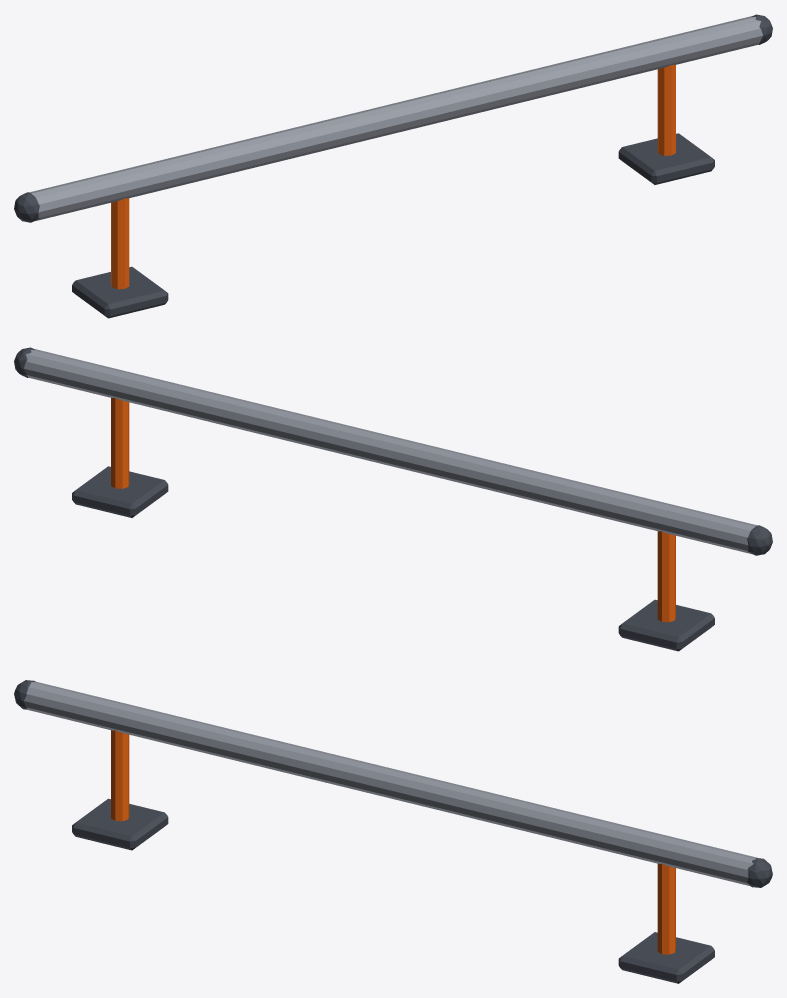
File: rail_flat.glb
3 renders of one model, top to bottom at view 1: azimuth 30°, elevation 25°; view 2: azimuth 150°, elevation 25°; view 3: azimuth 330°, elevation 25°, orthographic.
Visible parts, largest first — view 1: rail_flat; view 2: rail_flat; view 3: rail_flat.
Boxes of the visible parts, x1=… form: rail_flat: x1=14, y1=14, x2=772, y2=318; rail_flat: x1=14, y1=347, x2=772, y2=651; rail_flat: x1=14, y1=680, x2=772, y2=983.
Size of the model in its own units: 16.56 by 2.69 by 1.4.
Materials: 1 (1 with a texture image).
